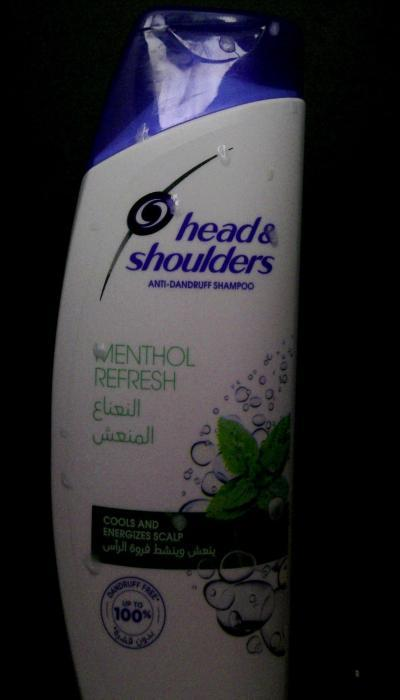pob_marg: (74, 548, 108, 586), (208, 140, 241, 175), (86, 333, 118, 369), (210, 32, 244, 63), (138, 10, 172, 40), (122, 115, 154, 146), (156, 187, 185, 220), (252, 18, 285, 44), (164, 508, 192, 536), (282, 92, 305, 126), (260, 221, 286, 250), (258, 162, 284, 187), (55, 466, 76, 494), (211, 12, 243, 29), (54, 422, 74, 446), (85, 218, 103, 238)
